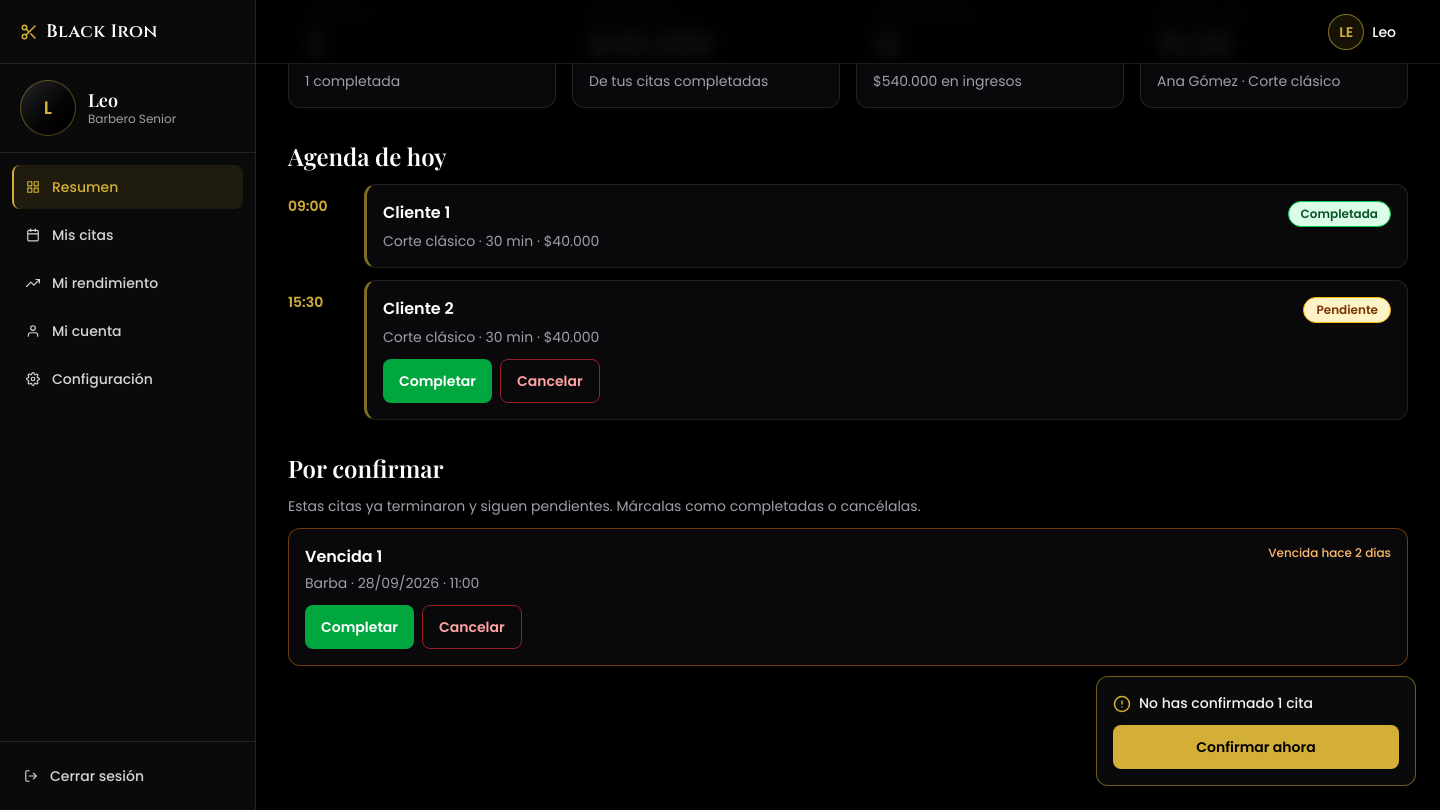
it: Aviso persistente de citas por confirmar › desaparece solo cuando el conteo llega a 0 tras confirmar o cancelar
(page scrolled)
Check: the text "No has confirmado 1 cita" is shown, box [1139,693,1313,713]
Click the button with aria-label "Completar la cita de Vencida 1" at (360, 627), box [305,605,414,649]
(page scrolled)
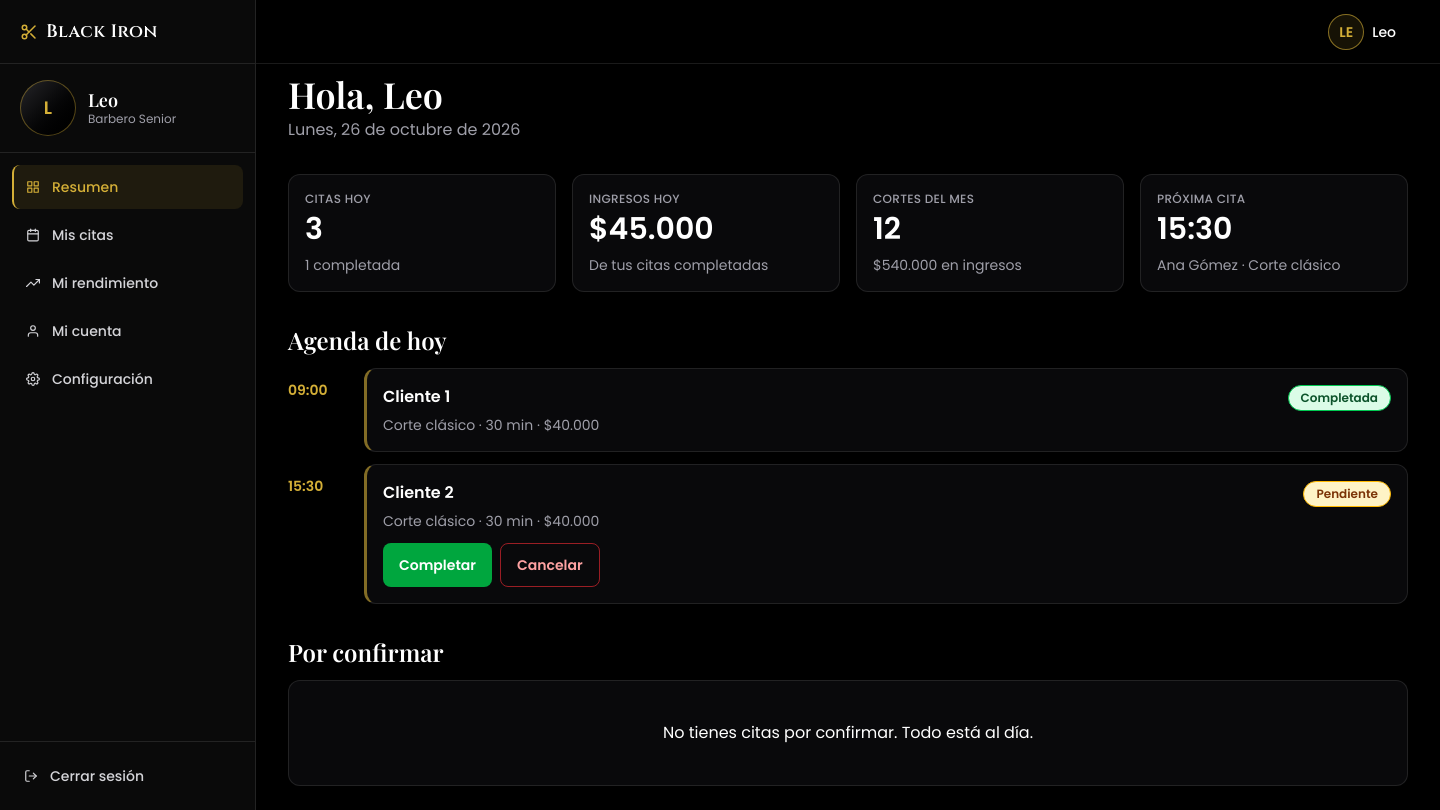
Check: the text "No has confirmado" is gone
